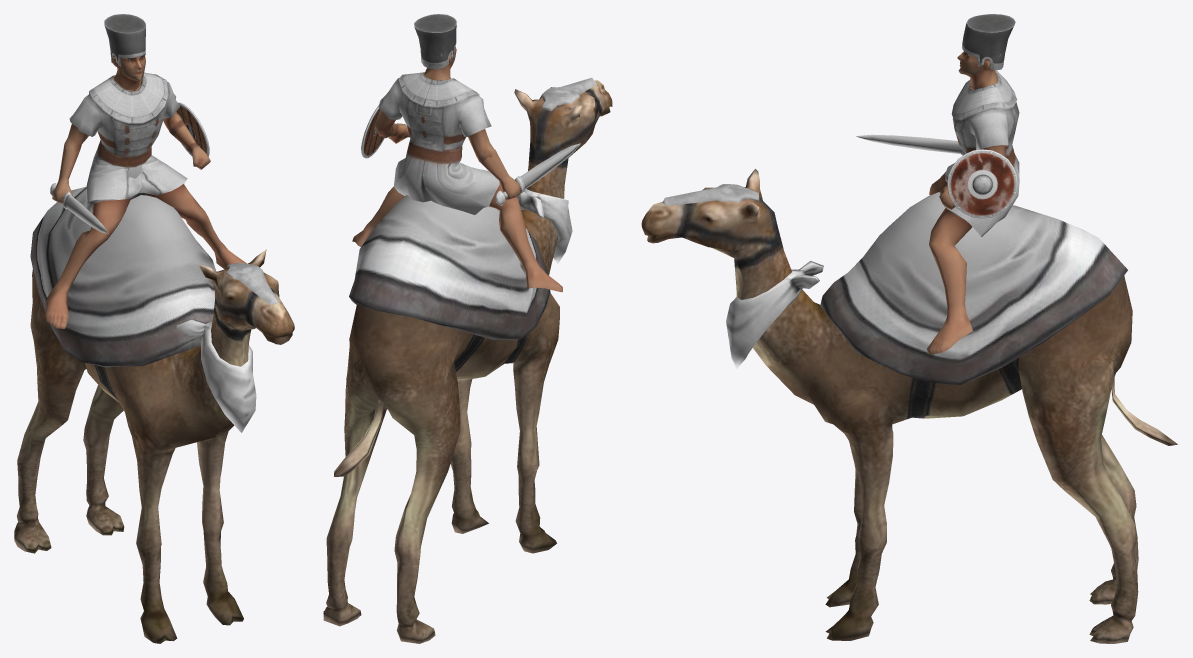
File: 59-camelrider.glb
3 views of the same model, side by side, from view 1: azimuth 30°, elevation 25°; view 2: azimuth 150°, elevation 25°; view 3: azimuth 270°, elevation 25° (orthographic). The views are drawn at different scales.
Bounding box in the file's own units: 1.55 × 4.04 × 3.29.
Materials: 5 (5 with a texture image).
